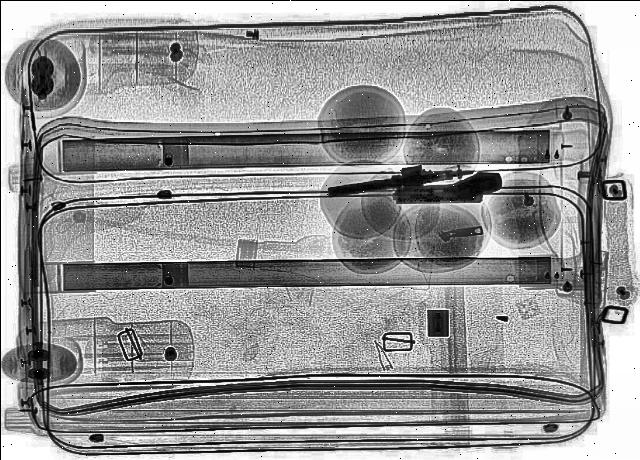Gun: (324, 162, 476, 198), (390, 170, 500, 202)
